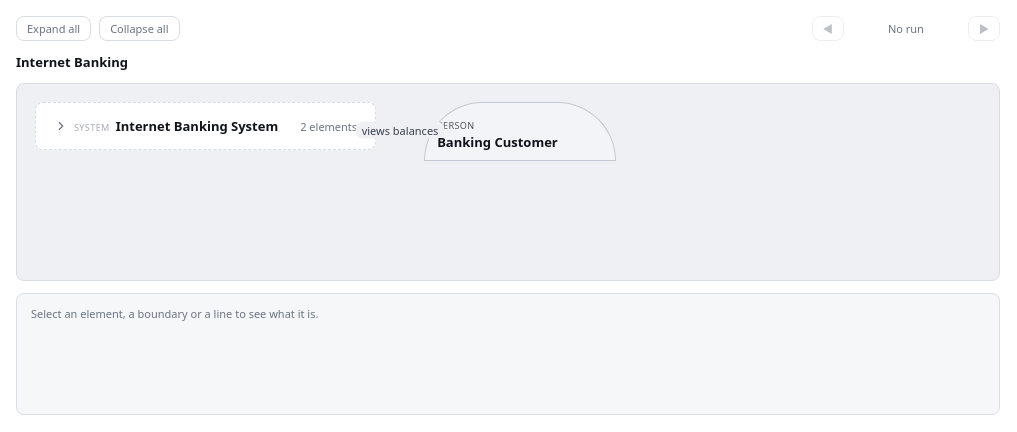
C4Chart › gives a box its type and technology, and keeps the description out of it
Click the button "System Internet Banking System": (166, 126) [47,114,285,138]
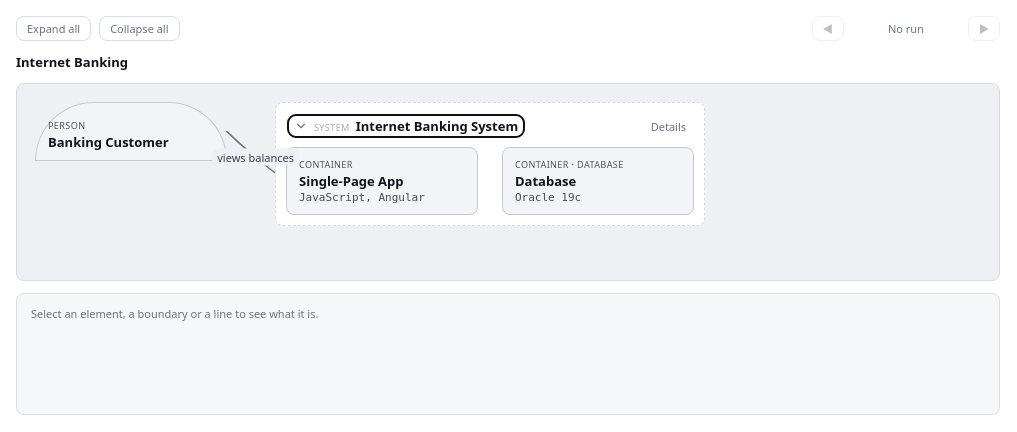
Now the button "Single-Page App" shows "Container", box [286,147,478,215]
Now the button "Single-Page App" shows "JavaScript, Angular", box [286,147,478,215]
